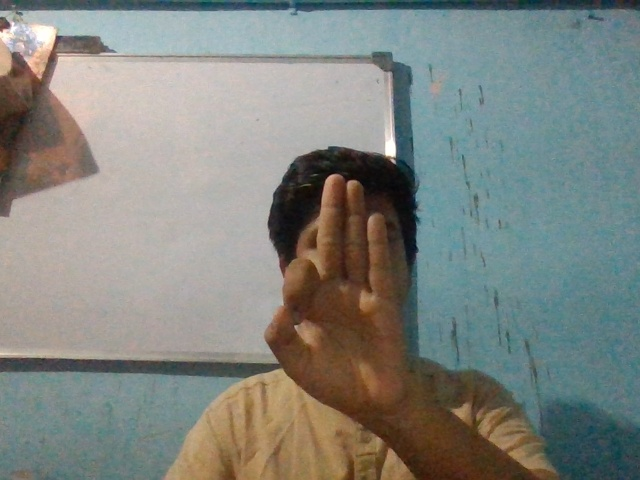Chin: (267, 165, 421, 411)
